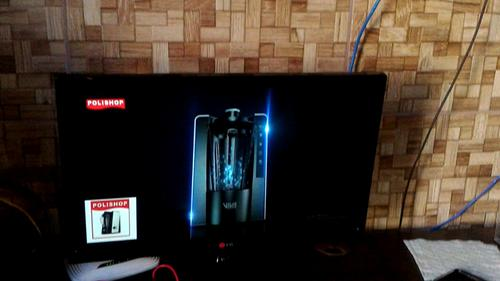Polishop #1: (85, 196, 137, 244)
